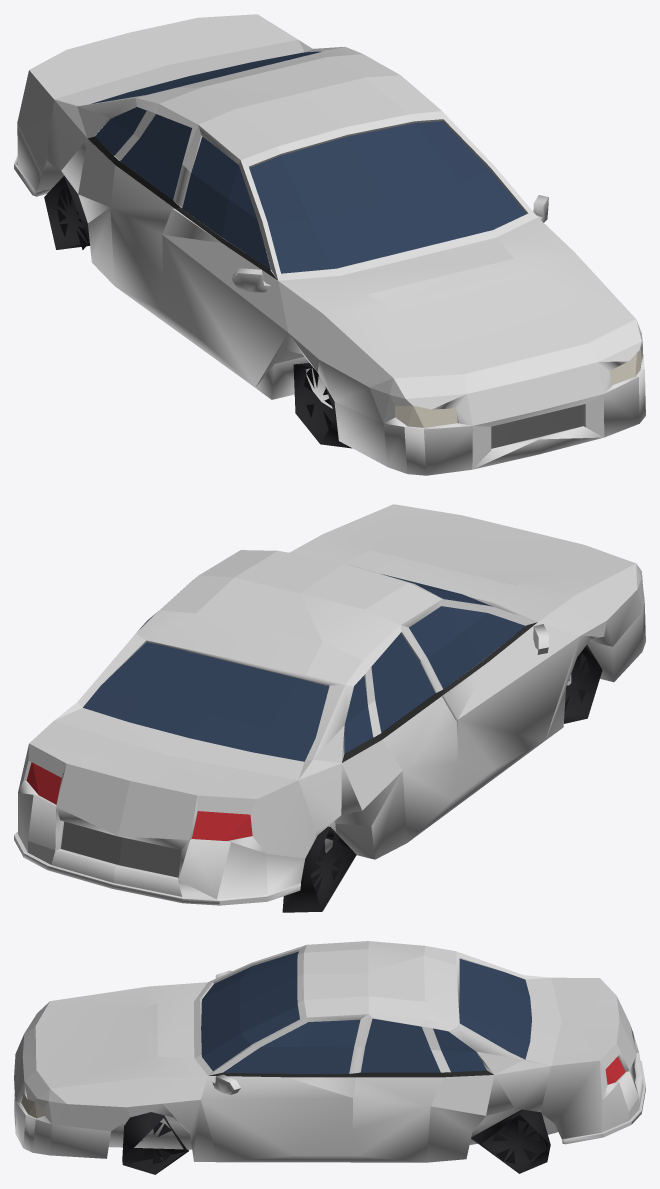
The model's file is sedan-lo.glb.
The picture shows the model from 3 angles, top to bottom: view 1: azimuth 30°, elevation 25°; view 2: azimuth 150°, elevation 25°; view 3: azimuth 270°, elevation 25°; orthographic projection. The views are drawn at different scales.
Visible parts, largest first — view 1: paint, glass, tyre, trim, light; view 2: paint, glass, tyre, trim, light; view 3: paint, glass, tyre, trim, light.
Boxes of the visible parts, x1,y1,x2,y2 form: paint: (14,14,645,475); glass: (91,51,526,273); tyre: (44,175,351,448); trim: (88,136,583,448); light: (395,349,641,427); paint: (14,504,645,905); glass: (83,574,525,761); tyre: (282,645,602,912); trim: (61,622,537,877); light: (26,762,252,840); paint: (14,941,645,1162); glass: (201,951,531,1073); tyre: (122,1109,550,1174); trim: (209,1068,635,1081); light: (21,1056,625,1118).
Size of the model in its own units: 1.93 by 1.22 by 4.5.
